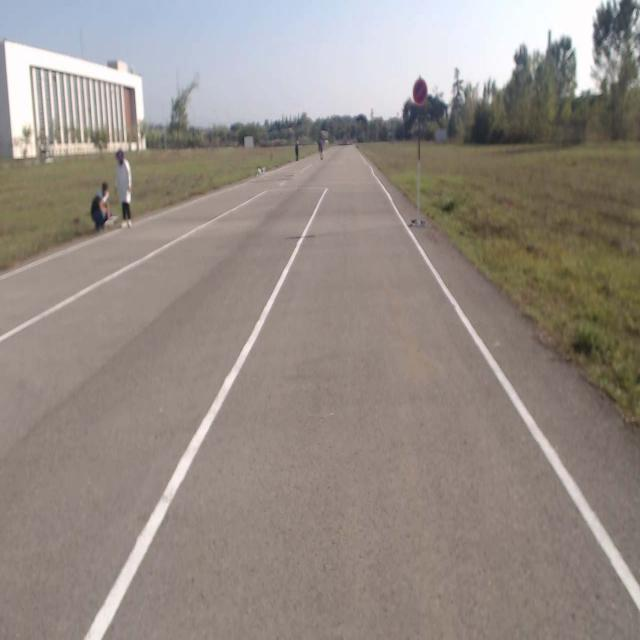parkyasak: (413, 79, 428, 105)
